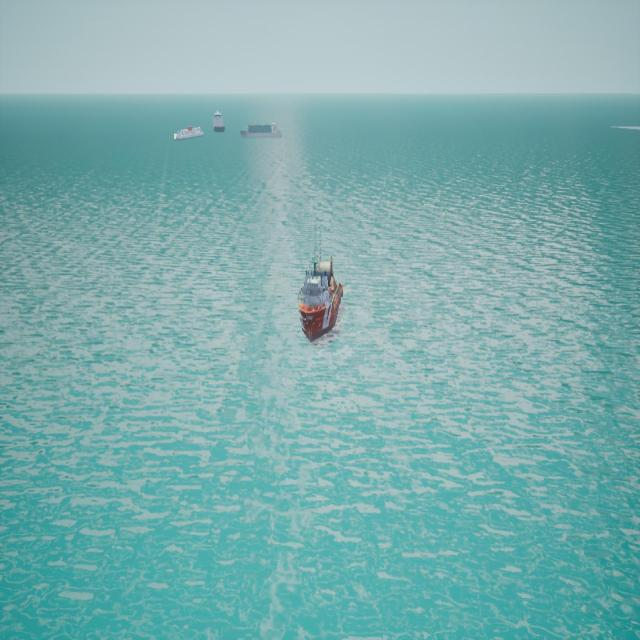tug boat: (299, 257, 344, 346)
